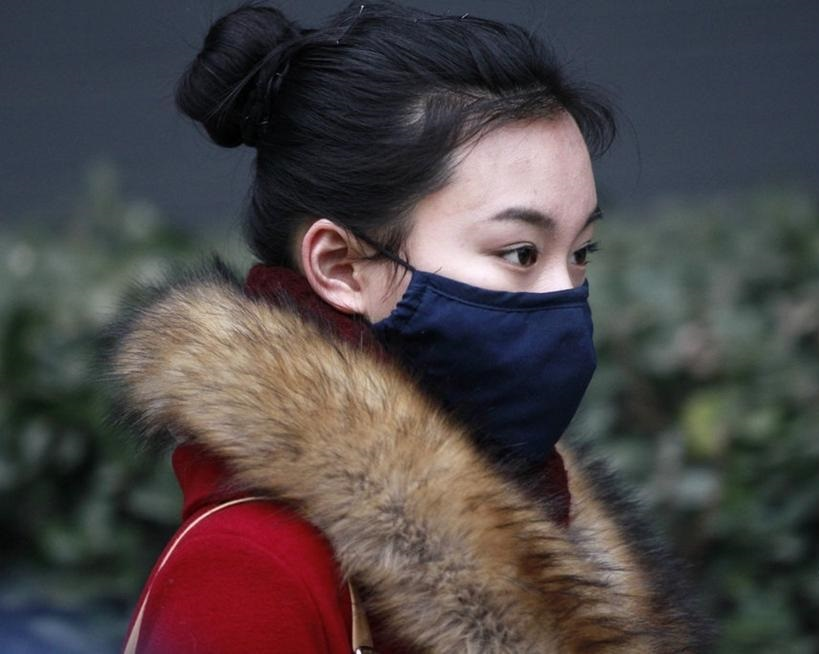face_mask: (394, 125, 599, 426)
